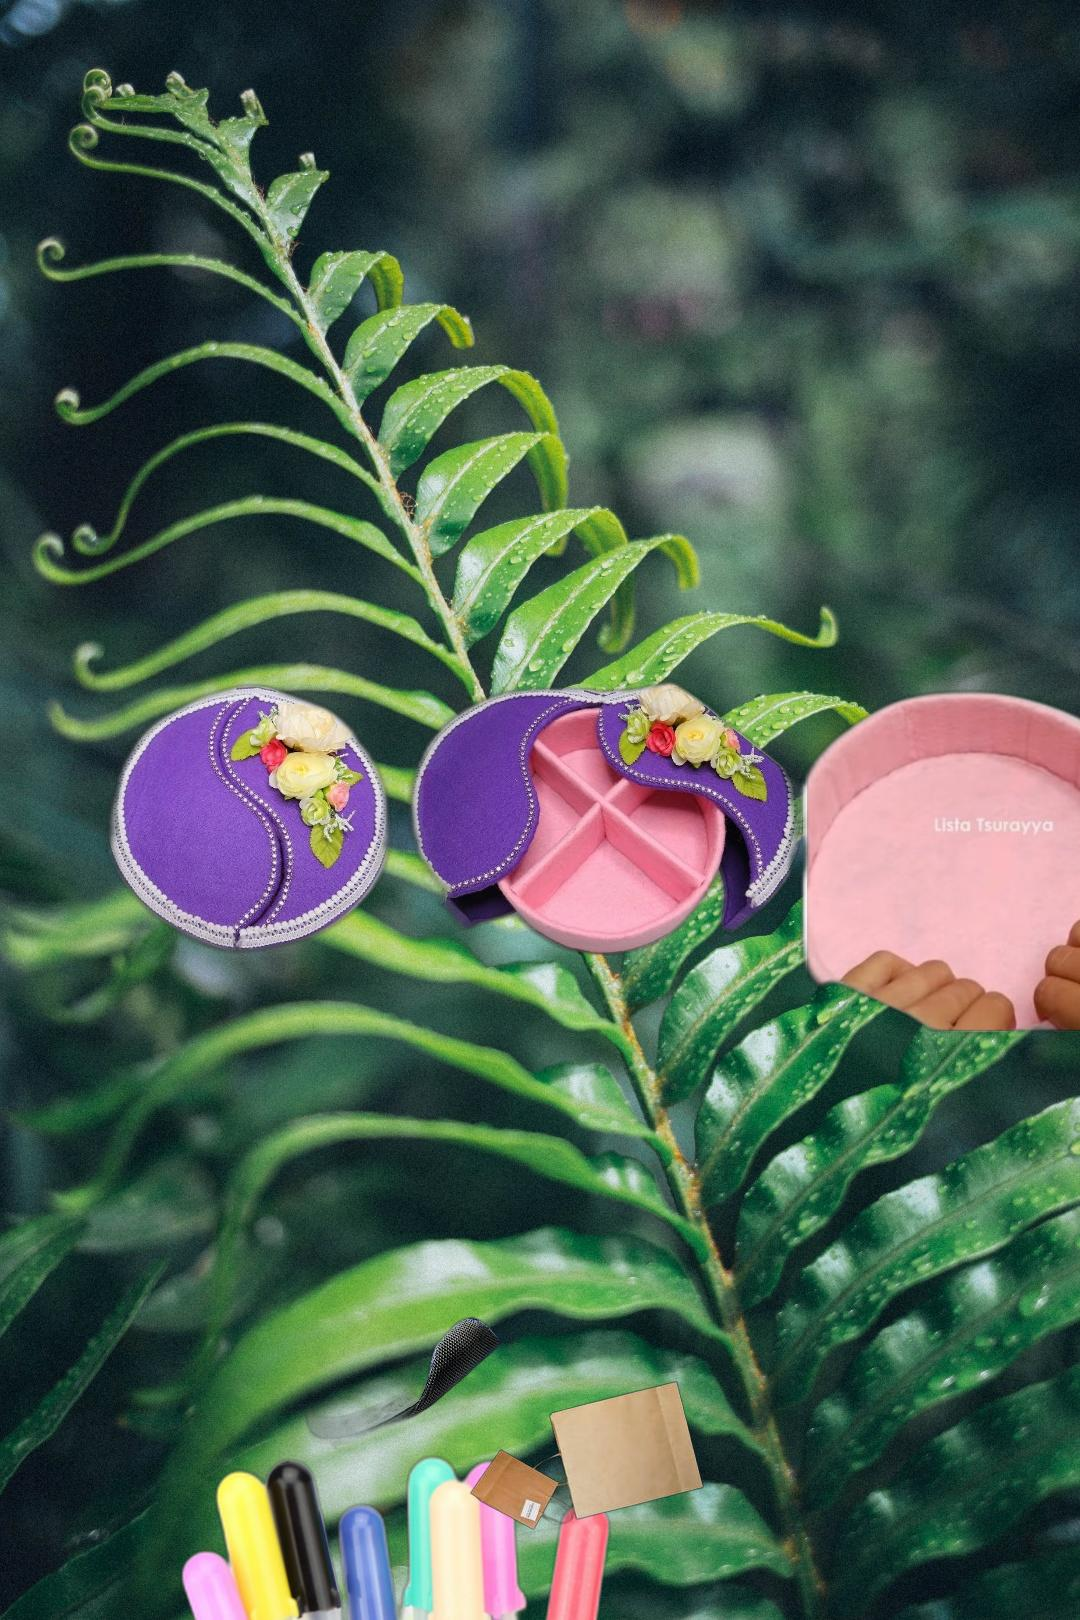paper-bag: (468, 1378, 724, 1620)
penholder: (108, 1449, 722, 1620)
shoes: (303, 1267, 504, 1449)
trashbox-cardboard: (86, 610, 1080, 1330)
